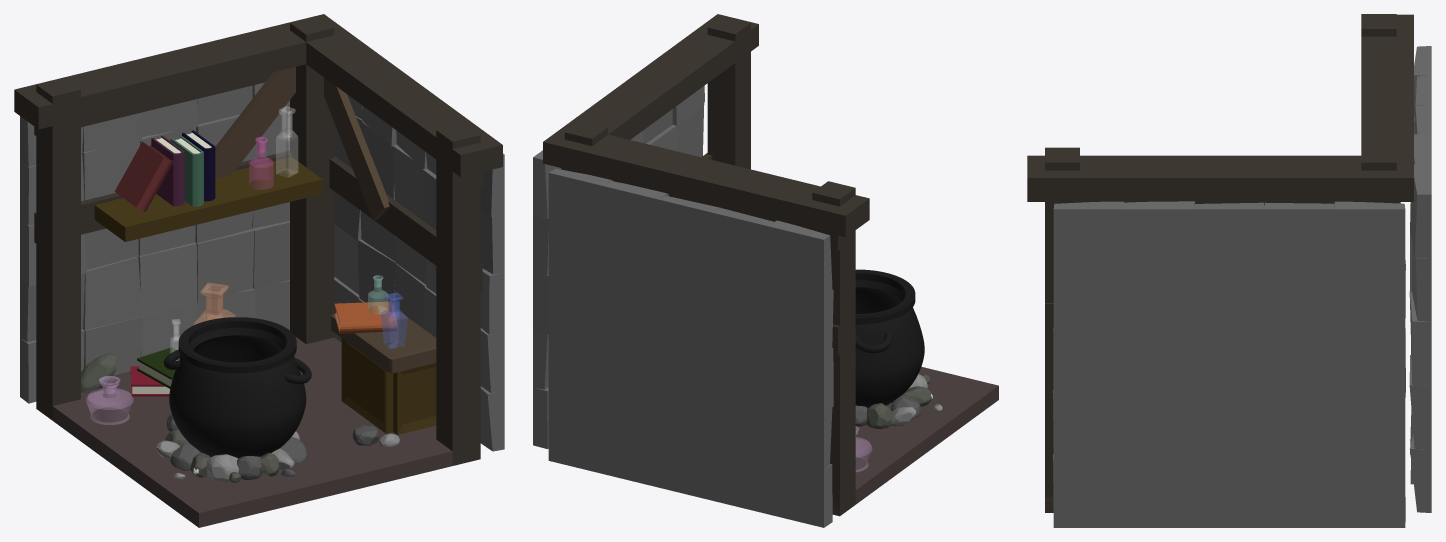
File: room.glb
3 views of the same model, side by side, from view 1: azimuth 30°, elevation 25°; view 2: azimuth 150°, elevation 25°; view 3: azimuth 270°, elevation 25° (orthographic). The views are drawn at different scales.
Parts seen in each view (by area): view 1: bg_floor, cauldron, Cube.001, Cube.002, Cube.003, Cube, Cube.004, Cube.007, pillar.005, bg_wall_A.033, bg_wall_A.034, bg_wall_A.032 (+57 smaller); view 2: Cube.003, Cube.004, cauldron, bg_floor, Cube.001, Cube.002, bg_wall_A.046, bg_wall_A.036, bg_wall_A.041, bg_wall_A.001, bg_wall_A.049, bg_wall_A.050 (+28 smaller); view 3: Cube.004, Cube.003, bg_wall_A.026, bg_wall_A.027, bg_wall_A.023, bg_wall_A.024, bg_wall_A.025, bg_wall_A.012, bg_wall_A.013, bg_wall_A.017, bg_wall_A.010, bg_wall_A.015 (+28 smaller).
Part boxes in pixels (left/top/right/bottom): bg_floor: left=52, top=336, right=452, bottom=527; cauldron: left=163, top=317, right=311, bottom=458; Cube.001: left=36, top=78, right=80, bottom=420; Cube.002: left=436, top=123, right=480, bottom=465; Cube.003: left=14, top=24, right=306, bottom=129; Cube: left=290, top=16, right=334, bottom=344; Cube.004: left=282, top=14, right=502, bottom=177; Cube.007: left=94, top=157, right=322, bottom=241; pillar.005: left=215, top=67, right=295, bottom=179; bg_wall_A.033: left=138, top=242, right=197, bottom=316; bg_wall_A.034: left=195, top=229, right=254, bottom=304; bg_wall_A.032: left=83, top=256, right=141, bottom=330; Cube.003: left=543, top=134, right=869, bottom=237; Cube.004: left=543, top=14, right=758, bottom=173; cauldron: left=855, top=269, right=924, bottom=408; bg_floor: left=832, top=366, right=998, bottom=516; Cube.001: left=812, top=181, right=855, bottom=515; Cube.002: left=707, top=16, right=750, bottom=169; bg_wall_A.046: left=769, top=220, right=832, bottom=297; bg_wall_A.036: left=769, top=342, right=833, bottom=412; bg_wall_A.041: left=769, top=284, right=833, bottom=354; bg_wall_A.001: left=769, top=457, right=832, bottom=527; bg_wall_A.049: left=603, top=181, right=668, bottom=256; bg_wall_A.050: left=548, top=168, right=612, bottom=243; Cube.004: left=1027, top=155, right=1413, bottom=201; Cube.003: left=1361, top=14, right=1413, bottom=201; bg_wall_A.026: left=1124, top=201, right=1194, bottom=272; bg_wall_A.027: left=1053, top=201, right=1124, bottom=272; bg_wall_A.023: left=1334, top=201, right=1405, bottom=272; bg_wall_A.024: left=1264, top=202, right=1334, bottom=272; bg_wall_A.025: left=1194, top=202, right=1264, bottom=272; bg_wall_A.012: left=1052, top=390, right=1123, bottom=464; bg_wall_A.013: left=1335, top=328, right=1405, bottom=400; bg_wall_A.017: left=1053, top=328, right=1123, bottom=400; bg_wall_A.010: left=1194, top=400, right=1264, bottom=464; bg_wall_A.015: left=1194, top=336, right=1264, bottom=400.
Bounding box in the file's own units: 46 × 44.19 × 46.
